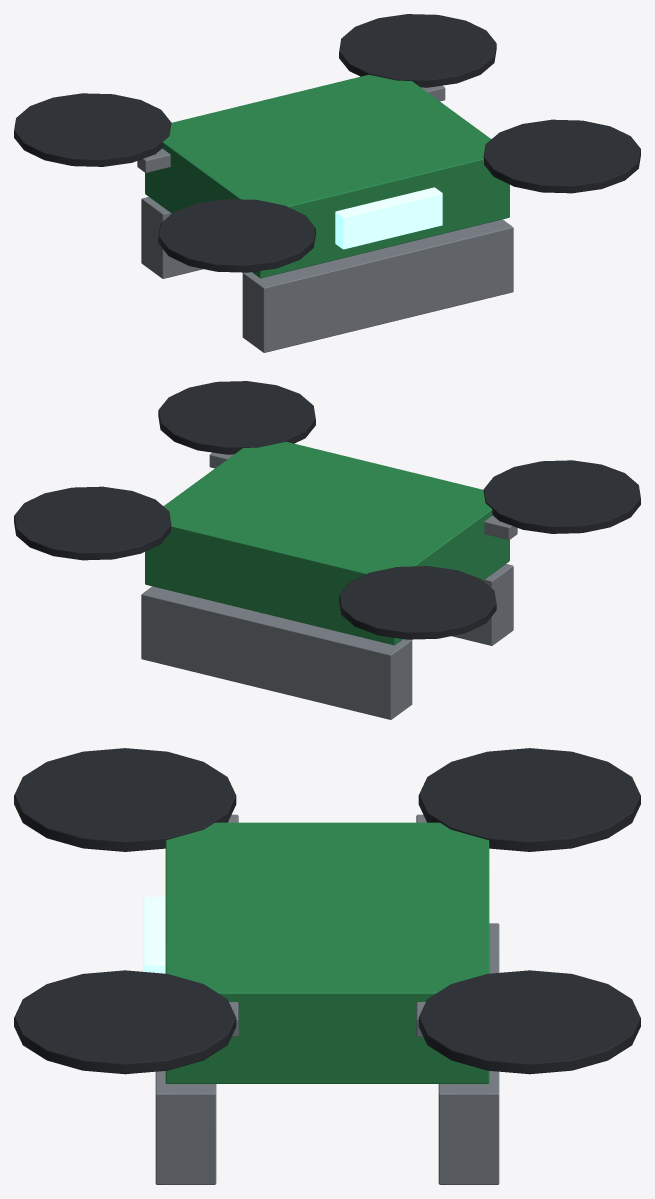
The model's file is wraith_utility_drone.fbx.
3 views of the same model, one above another, from view 1: azimuth 30°, elevation 25°; view 2: azimuth 150°, elevation 25°; view 3: azimuth 270°, elevation 25° (orthographic). The views are drawn at different scales.
Visible parts, largest first — view 1: Utility_Drone; view 2: Utility_Drone; view 3: Utility_Drone.
Boxes of the visible parts, x1,y1,x2,y2 form: Utility_Drone: [14, 14, 640, 352]; Utility_Drone: [14, 381, 640, 719]; Utility_Drone: [14, 748, 640, 1184].
Bounding box in the file's own units: 62.9 × 18.02 × 52.7.
